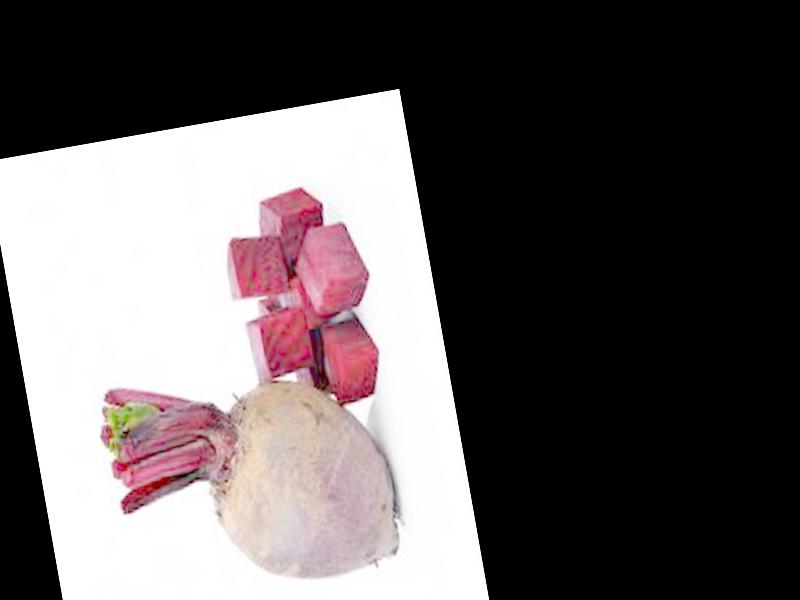Beet: (95, 344, 408, 600)
